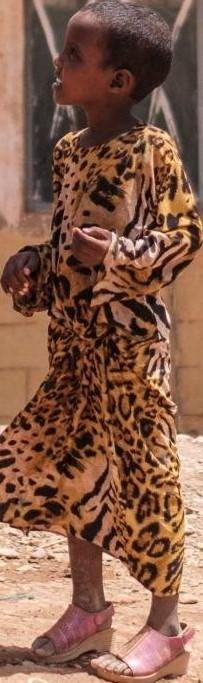Stunting: (0, 5, 203, 150)
